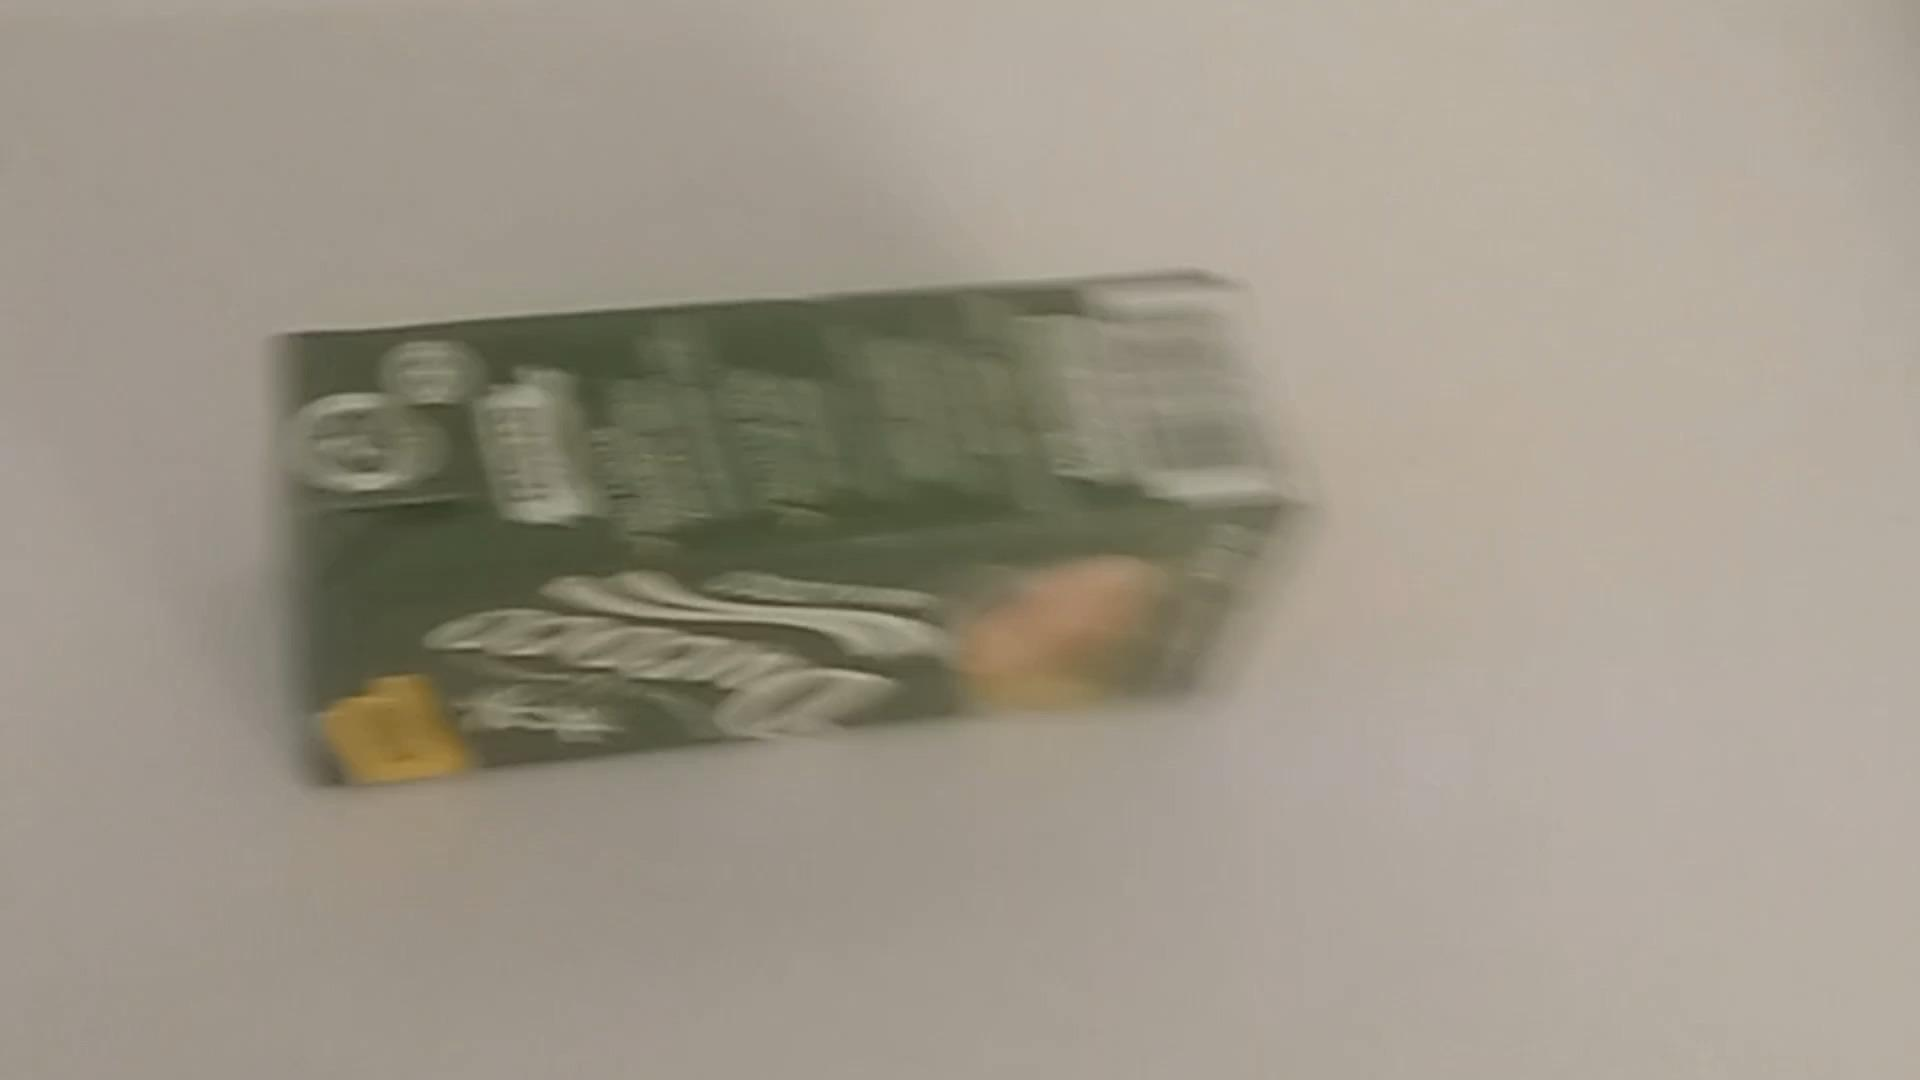coco: (262, 255, 1315, 800)
